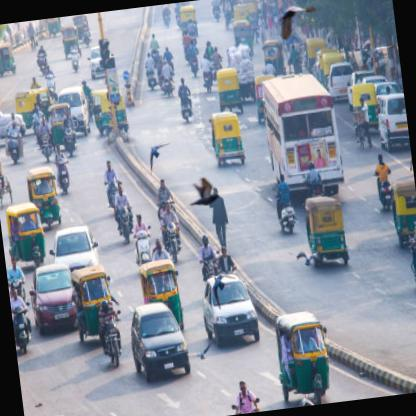bus: (260, 68, 347, 204)
car: (128, 300, 192, 384), (198, 272, 260, 352), (27, 261, 78, 336), (48, 222, 100, 272), (372, 92, 410, 152), (57, 83, 92, 140), (0, 95, 27, 146), (326, 62, 356, 100)
motorcycle: (94, 299, 126, 370), (8, 283, 34, 354), (158, 199, 182, 265), (270, 176, 296, 235), (112, 180, 135, 244), (373, 152, 395, 214), (129, 213, 153, 266), (176, 76, 196, 126), (52, 144, 70, 194), (405, 219, 415, 294), (198, 53, 214, 92), (161, 58, 175, 95)
